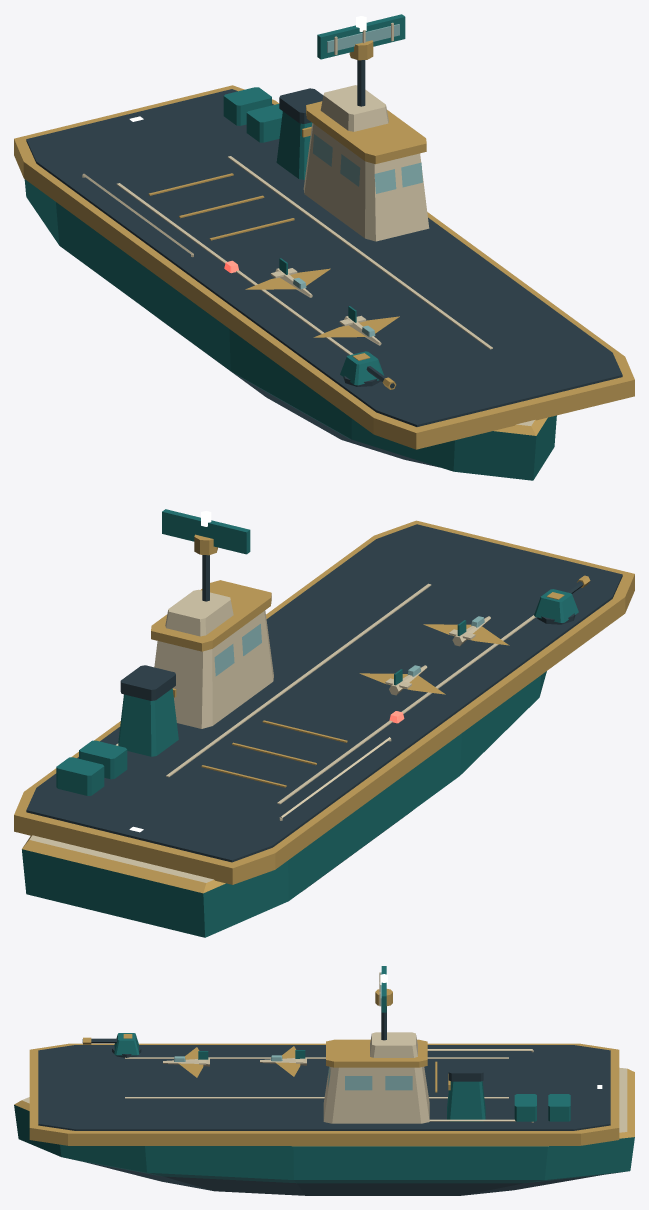
The model's file is light-carrier-player.glb.
The picture shows the model from 3 angles, top to bottom: view 1: azimuth 30°, elevation 25°; view 2: azimuth 150°, elevation 25°; view 3: azimuth 270°, elevation 25°; orthographic projection. The views are drawn at different scales.
Parts seen in each view (by area): view 1: hull, funnel, radar, turret; view 2: hull, funnel, radar, turret; view 3: hull, funnel, turret, radar.
Part boxes in pixels (x1,y1,x2,y2): hull: [14, 60, 634, 480]; funnel: [276, 88, 323, 179]; radar: [317, 14, 405, 60]; turret: [340, 351, 384, 386]; hull: [14, 520, 634, 937]; funnel: [118, 665, 178, 756]; radar: [162, 509, 250, 555]; turret: [534, 589, 578, 624]; hull: [14, 1006, 634, 1195]; funnel: [447, 1060, 485, 1121]; turret: [112, 1033, 141, 1057]; radar: [375, 966, 392, 1012].
Bounding box in the file's own units: 2.85 × 3.29 × 8.32.
